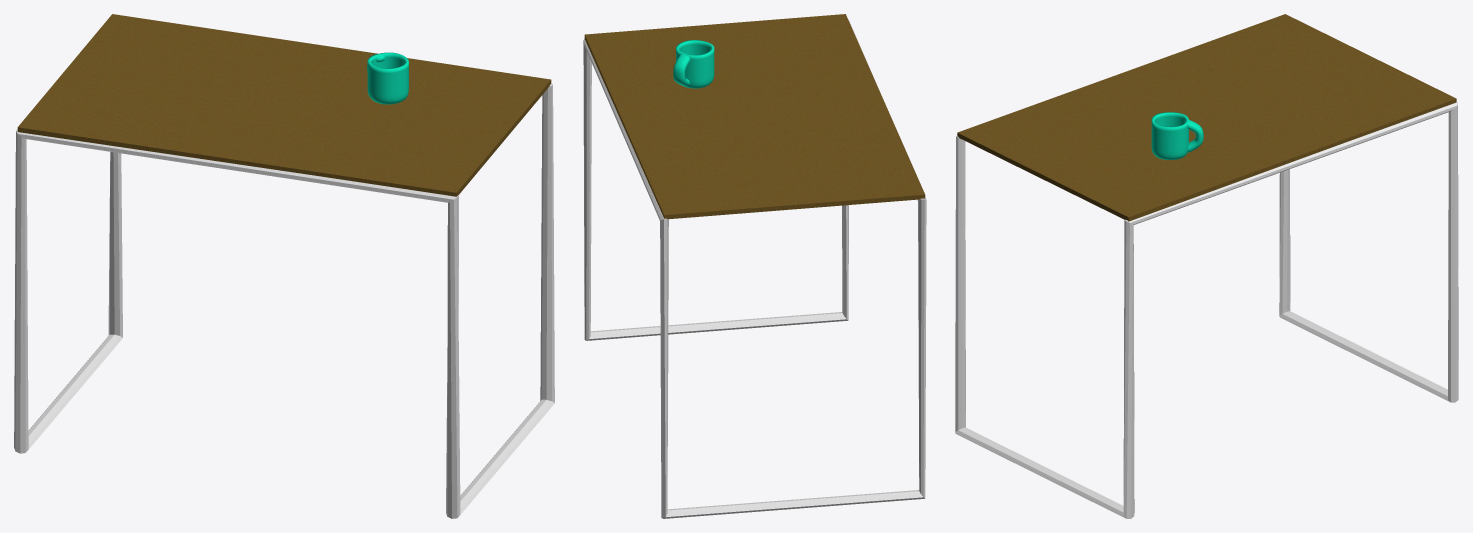
The model's file is table.fbx.
3 renders of one model, left to right at view 1: azimuth 30°, elevation 25°; view 2: azimuth 150°, elevation 25°; view 3: azimuth 270°, elevation 25°, orthographic. The views are drawn at different scales.
Visible parts, largest first — view 1: Plane.039, Cube.151, Cube.152; view 2: Plane.039, Cube.151, Cube.152; view 3: Plane.039, Cube.151, Cube.152.
Boxes of the visible parts, box(x1,y1,x2,y2) form: Plane.039: box(17, 14, 551, 196); Cube.151: box(14, 84, 554, 518); Cube.152: box(367, 52, 408, 104); Plane.039: box(584, 14, 925, 219); Cube.151: box(583, 19, 926, 518); Cube.152: box(673, 40, 714, 88); Plane.039: box(957, 14, 1456, 221); Cube.151: box(955, 102, 1458, 518); Cube.152: box(1151, 112, 1203, 159).
Size of the model in its own units: 500 by 383 by 520.
